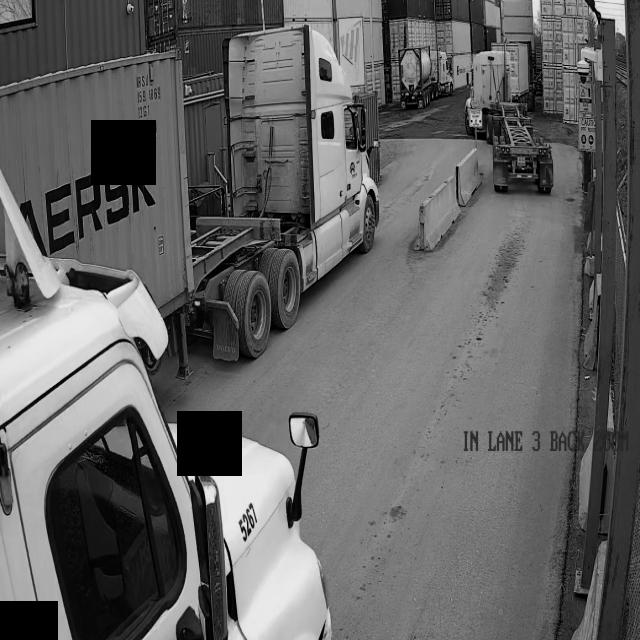container_side_no: (132, 67, 166, 122)
truck_cabin: (0, 146, 331, 640)
truck_number: (235, 492, 264, 550)
truck_with_container: (0, 26, 379, 359)
truck_without_container: (465, 53, 553, 193)
